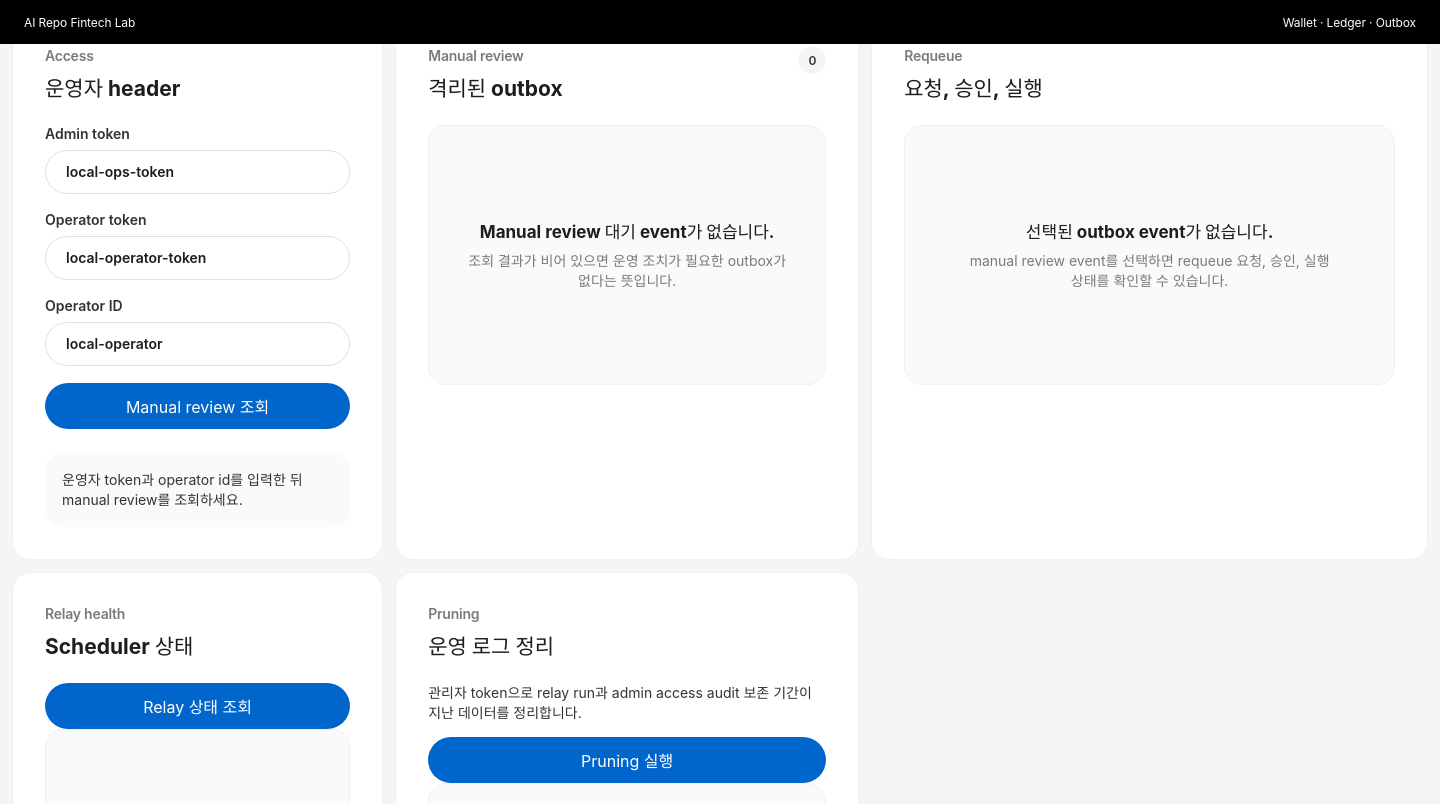
it: App › manual review outbox가 없으면 운영자 empty state를 표시한다
The image size is (1440, 804).
(page scrolled)
Click the button "Manual review 조회" at (198, 406), box x1=45 y1=383 x2=350 y2=429
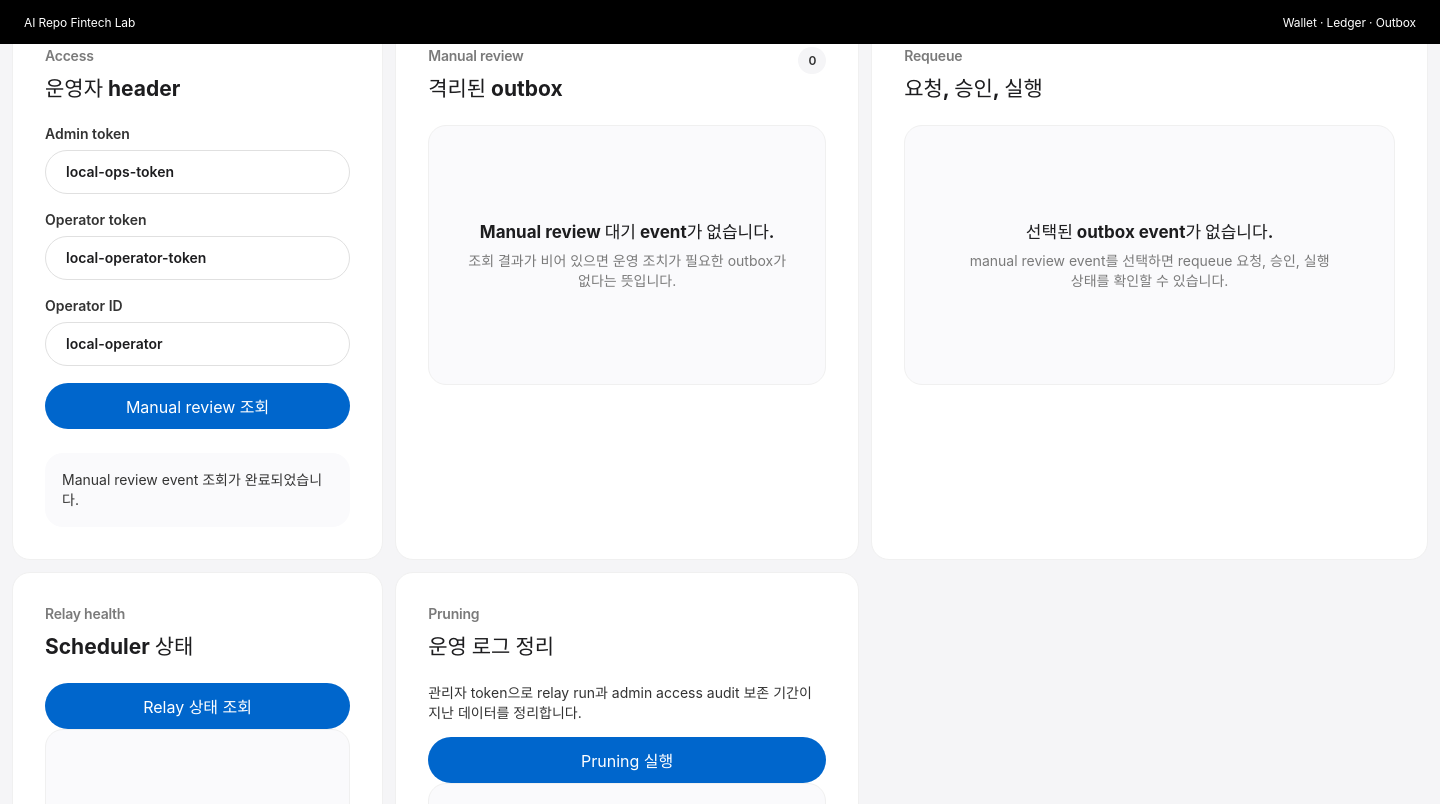
Check: the text "Manual review 대기 event가 없습니다." is shown, box x1=461 y1=218 x2=793 y2=244
Check: the text "Manual review event 조회가 완료되었습니다." is shown, box x1=45 y1=453 x2=350 y2=527
